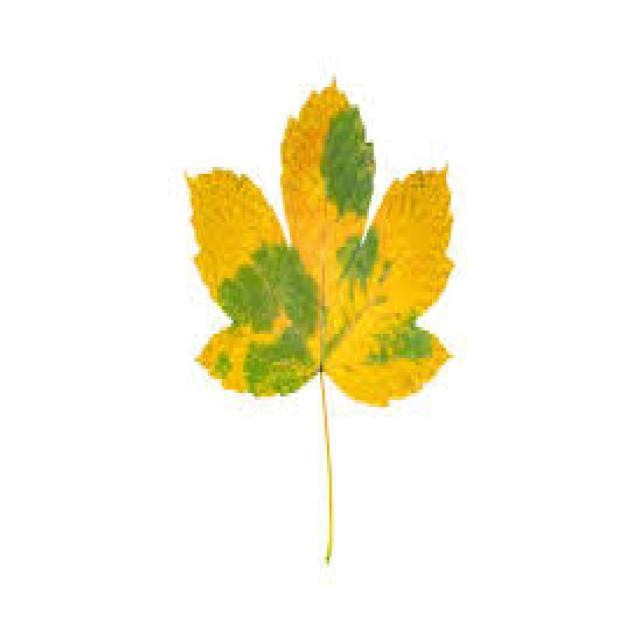leaf: (184, 74, 456, 564)
